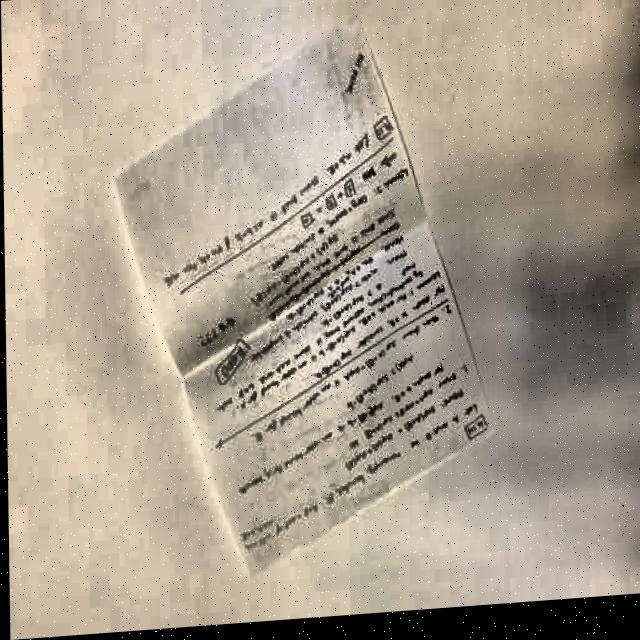paper: (109, 3, 499, 588)
